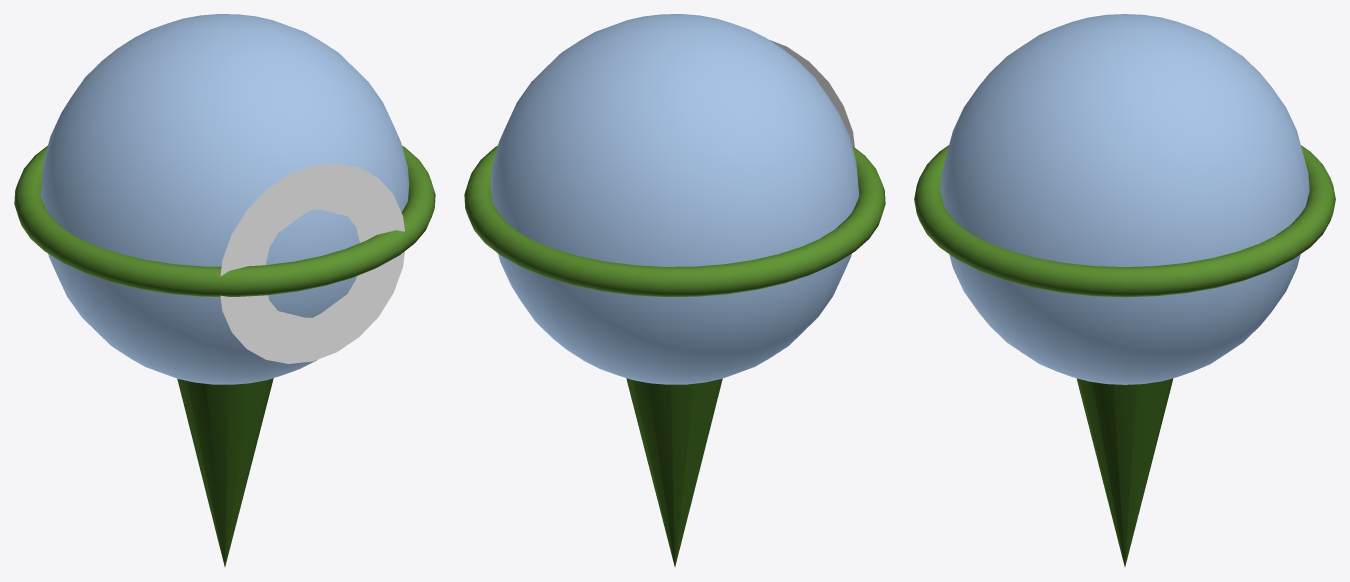
The model's file is cloud_with_lightning.glb.
3 views of the same model, side by side, from view 1: azimuth 30°, elevation 25°; view 2: azimuth 150°, elevation 25°; view 3: azimuth 270°, elevation 25° (orthographic).
Visible parts, largest first — view 1: hazardPin; view 2: hazardPin; view 3: hazardPin.
Boxes of the visible parts, x1,y1,x2,y2 form: hazardPin: [14, 14, 435, 566]; hazardPin: [464, 14, 885, 566]; hazardPin: [914, 14, 1335, 566].
Size of the model in its own units: 1.25 by 1.76 by 1.25.
